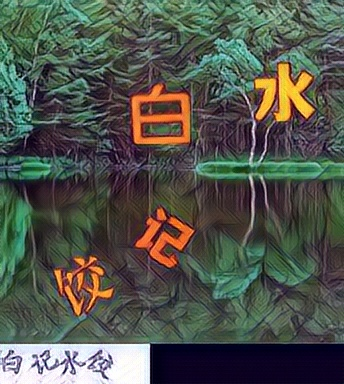B0D7: (129, 79, 192, 146)
BCC7: (132, 204, 195, 271)
BDC8: (53, 250, 116, 317)
CBAE: (250, 60, 313, 127)
